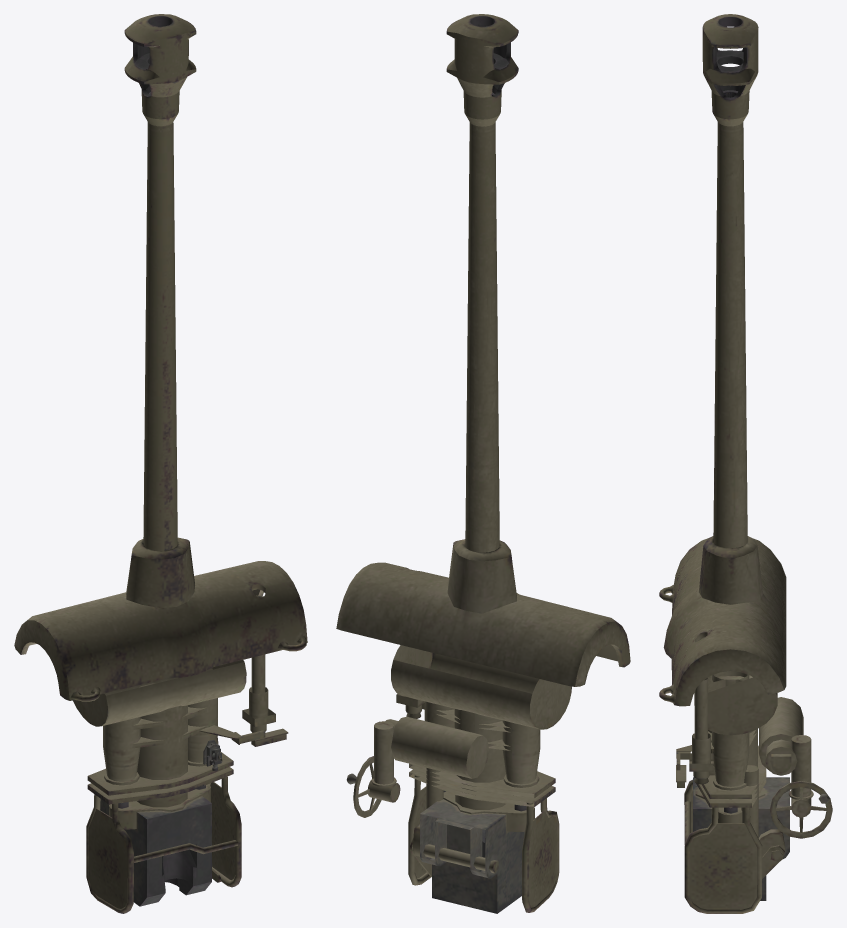
The model's file is Gun_06.glb.
3 renders of one model, left to right at view 1: azimuth 30°, elevation 25°; view 2: azimuth 150°, elevation 25°; view 3: azimuth 270°, elevation 25°, orthographic.
Parts seen in each view (by area): view 1: set_0_group_0; view 2: set_0_group_0; view 3: set_0_group_0.
Part boxes in pixels (<box>): set_0_group_0: <box>14,14,307,913</box>; set_0_group_0: <box>336,14,630,913</box>; set_0_group_0: <box>659,14,832,913</box>.
Bounding box in the file's own units: 1.22 × 4.17 × 0.7601.
1 material, 1 textured.
